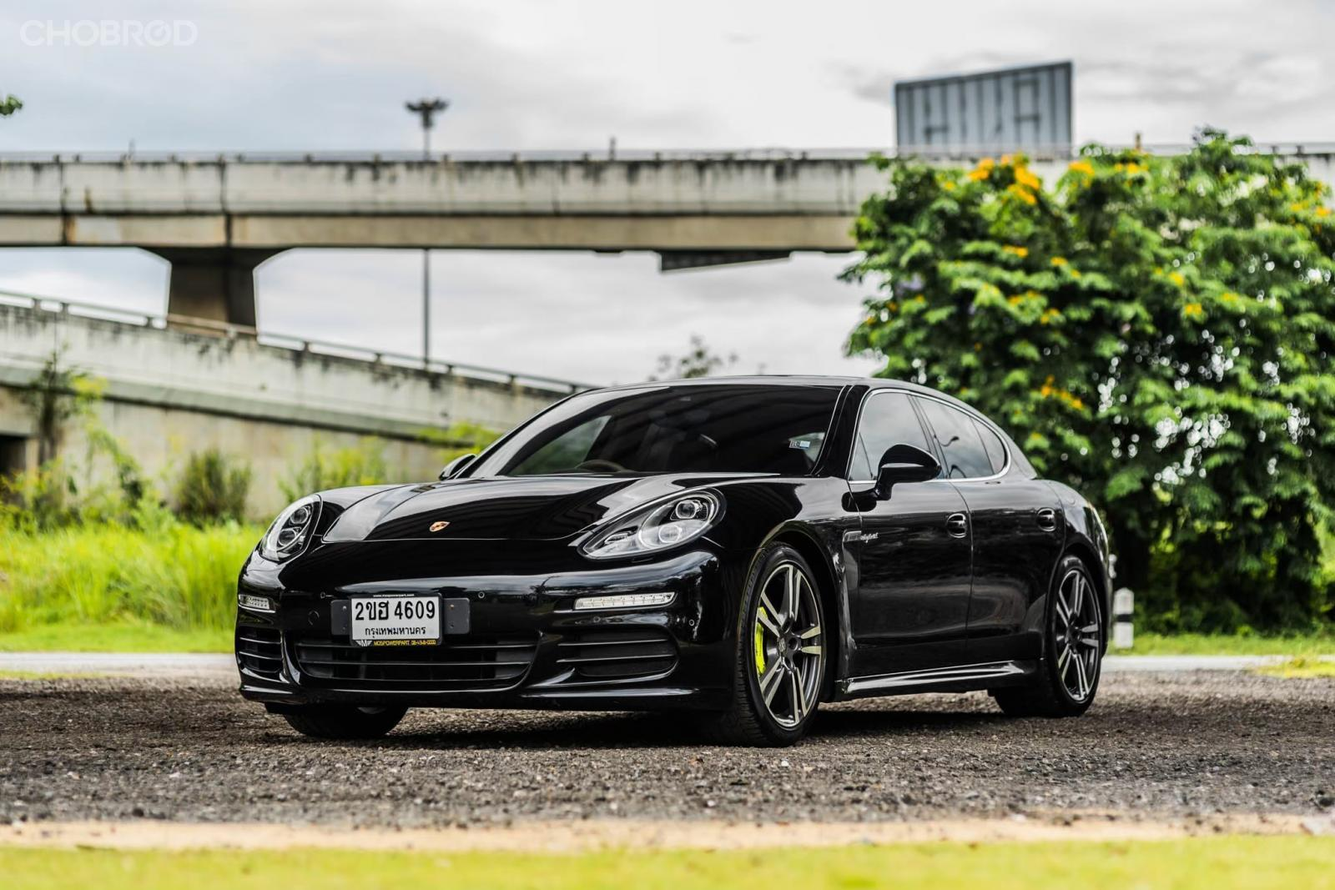license-plate: (345, 587, 442, 645)
